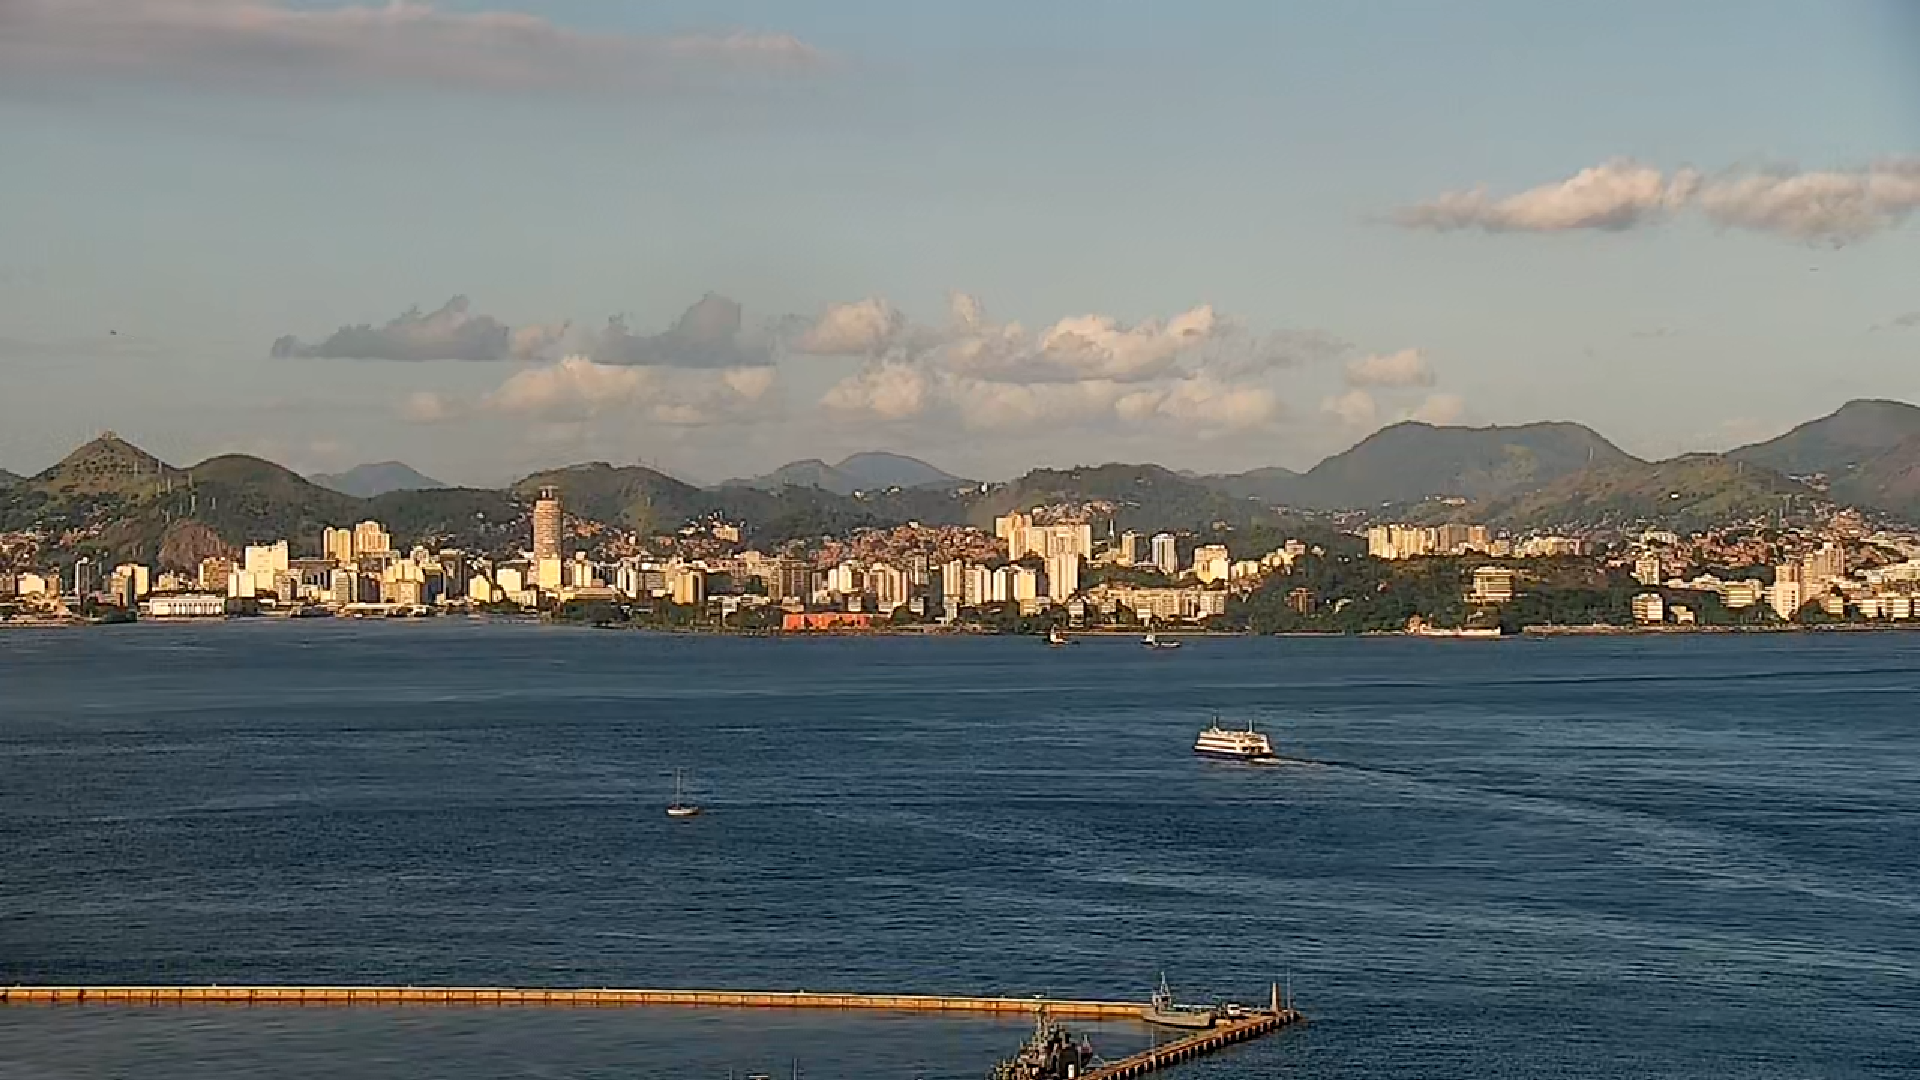Ship0: (1135, 969, 1229, 1036)
Ship1: (1192, 709, 1276, 765)
Ship3: (665, 764, 702, 822)
Ship5: (1139, 626, 1183, 651), (1042, 624, 1083, 649)
